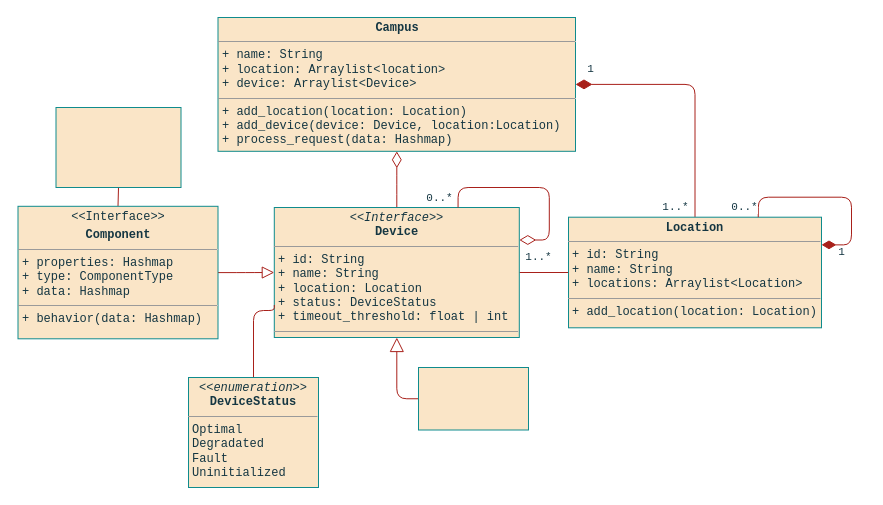
Image size: 883x505. Some labels were removed from this diagram. The centre of each missing label's shape, as x and y in pixels:
"<<enumeration>> DeviceType Sensor Actuator" belongs at point (118, 147).
"Gateway + ip: String" belongs at point (473, 398).
